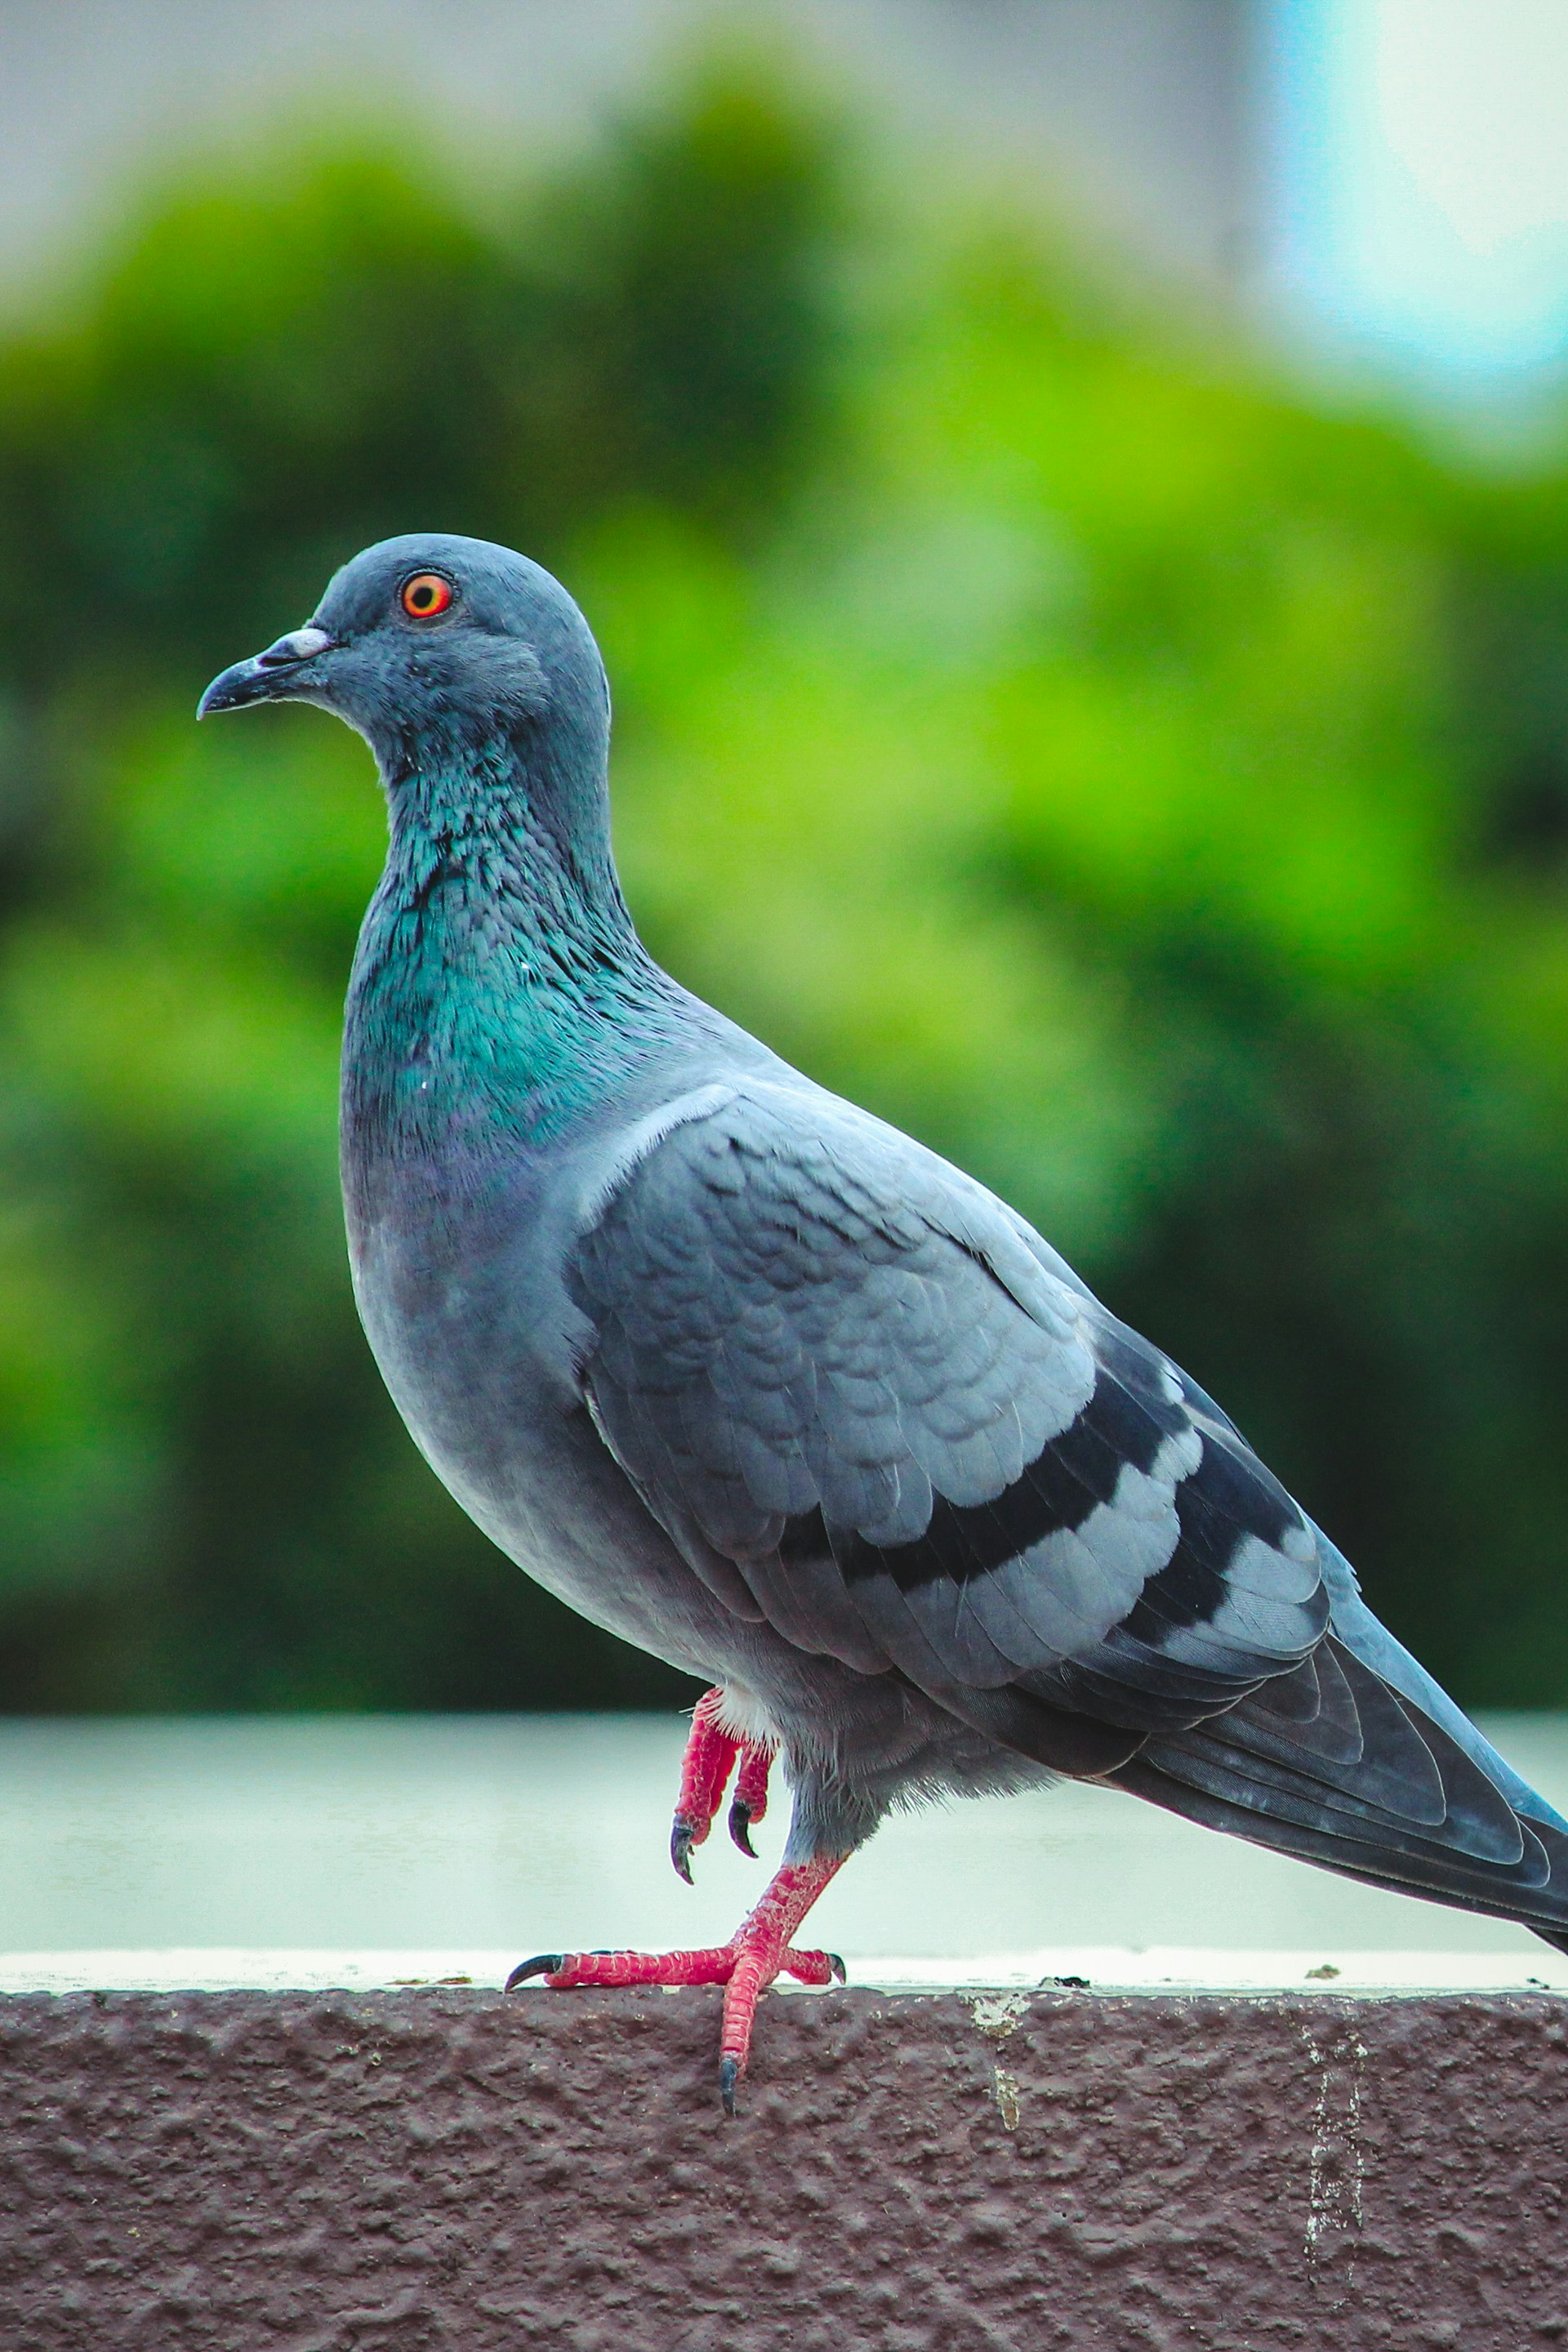pigeon: (152, 493, 1568, 2145)
